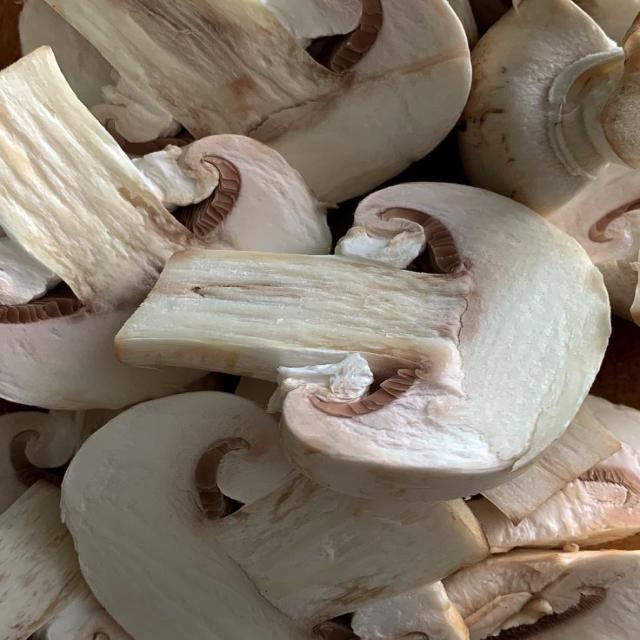champignon mushrooms: (117, 184, 609, 499), (0, 49, 330, 409), (63, 393, 486, 639), (48, 0, 470, 202), (460, 0, 639, 317), (460, 0, 636, 215), (468, 397, 639, 552), (444, 550, 639, 639), (484, 397, 620, 524), (548, 164, 639, 322), (0, 481, 86, 639), (20, 0, 113, 107), (0, 412, 83, 514), (352, 582, 469, 639), (29, 588, 133, 639), (0, 231, 59, 305), (574, 0, 639, 43)
